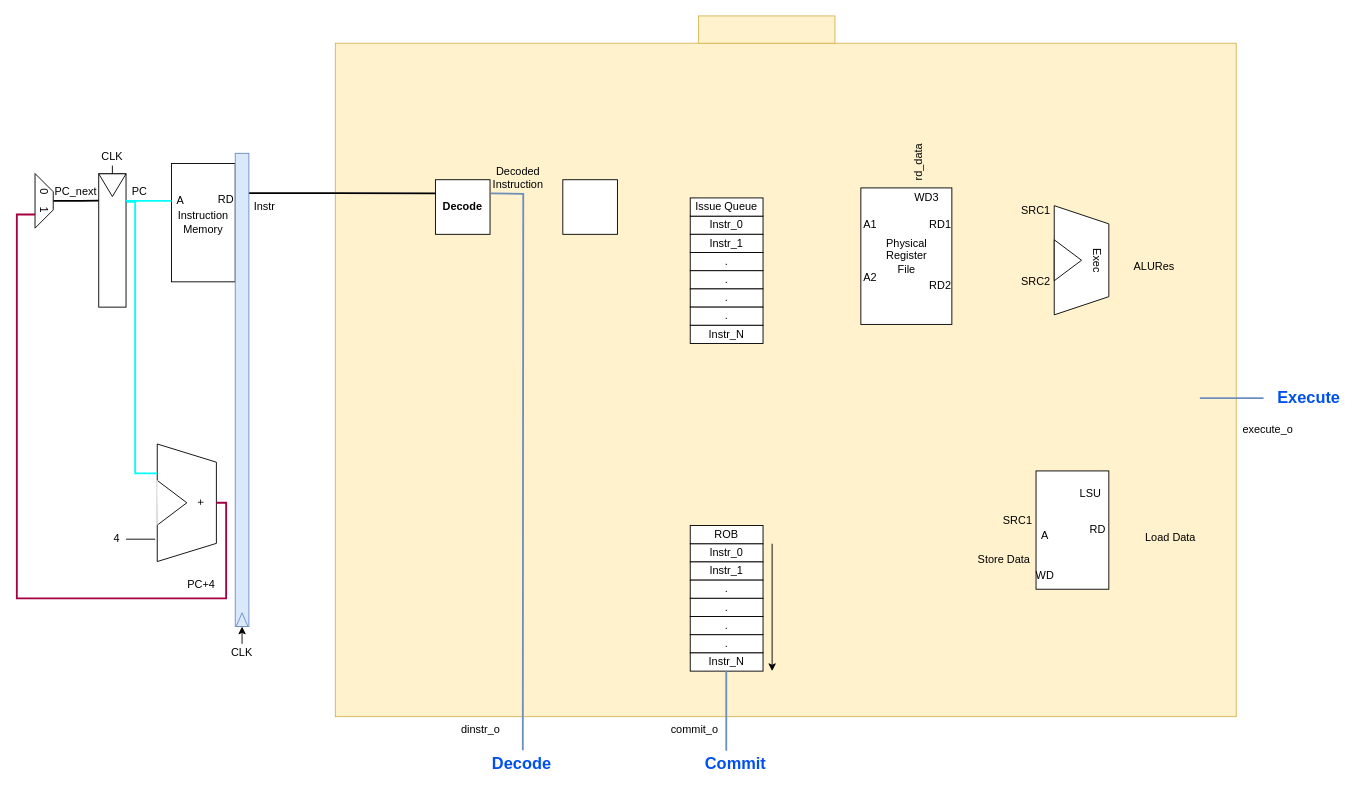
This 1370x794 diagram has some shape labels left out. The shapes that lost their labels are listed below. From the top down, each one's centre as x and y in pixels, then its label:
At point 766,29: "Out of Order Logic".
At point 589,206: "Rename".
